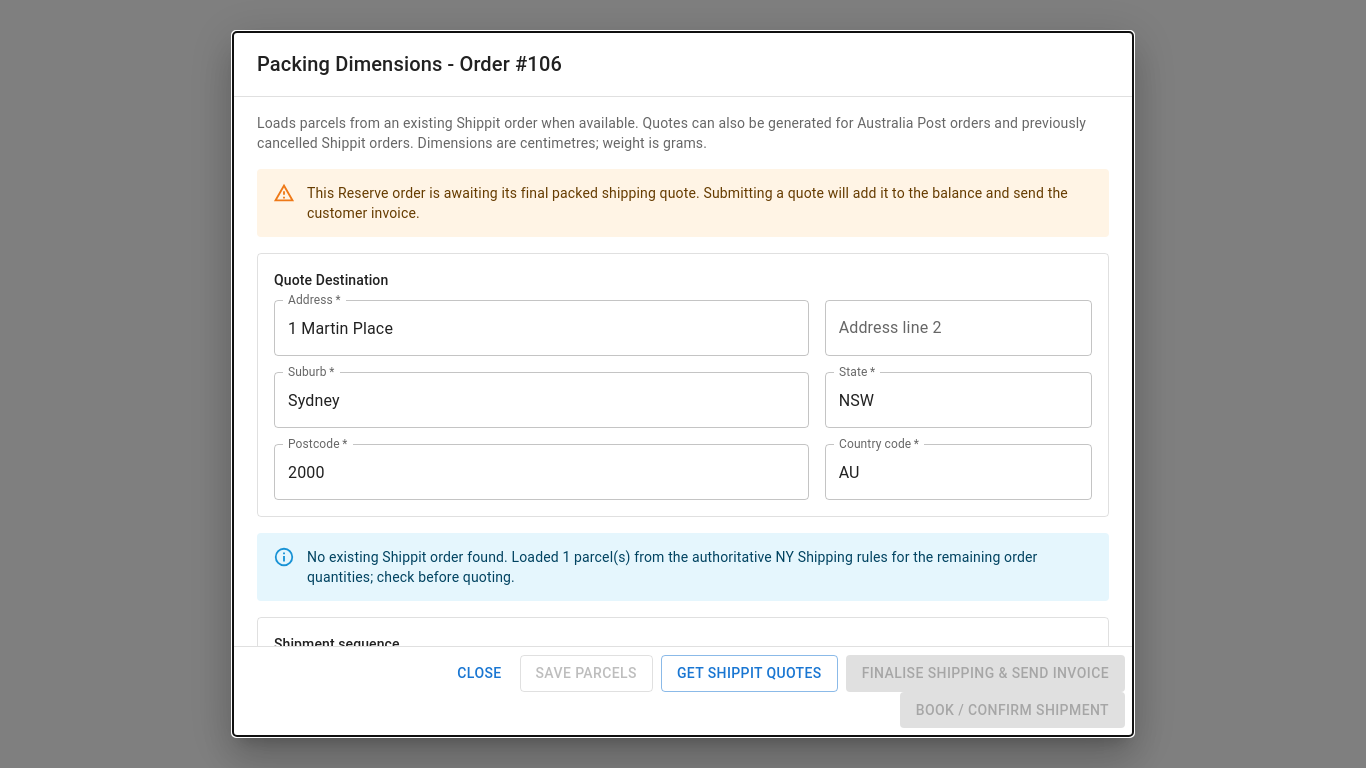
Test: PackingDimensionsDialog › finalises a Reserve balance from a selected packed shipping quote
Expected: the text "awaiting its final packed shipping quote" is shown, [307,185,1068,221]
Click the button "Get Shippit Quotes".
click(749, 673)  # box [661,655,838,692]
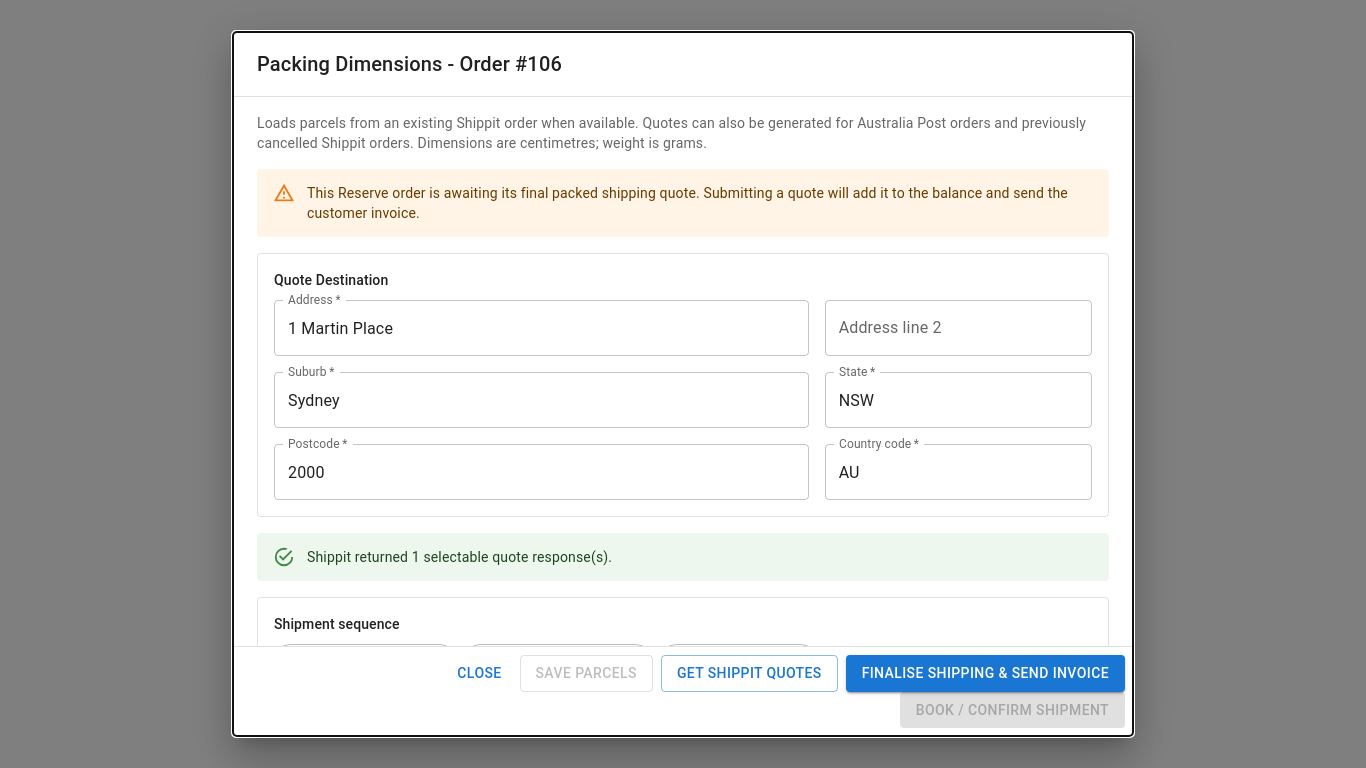
Expected: the button "Finalise Shipping & Send Invoice" is enabled
Click the button "Finalise Shipping & Send Invoice".
click(985, 673)  # box [846,655,1125,692]
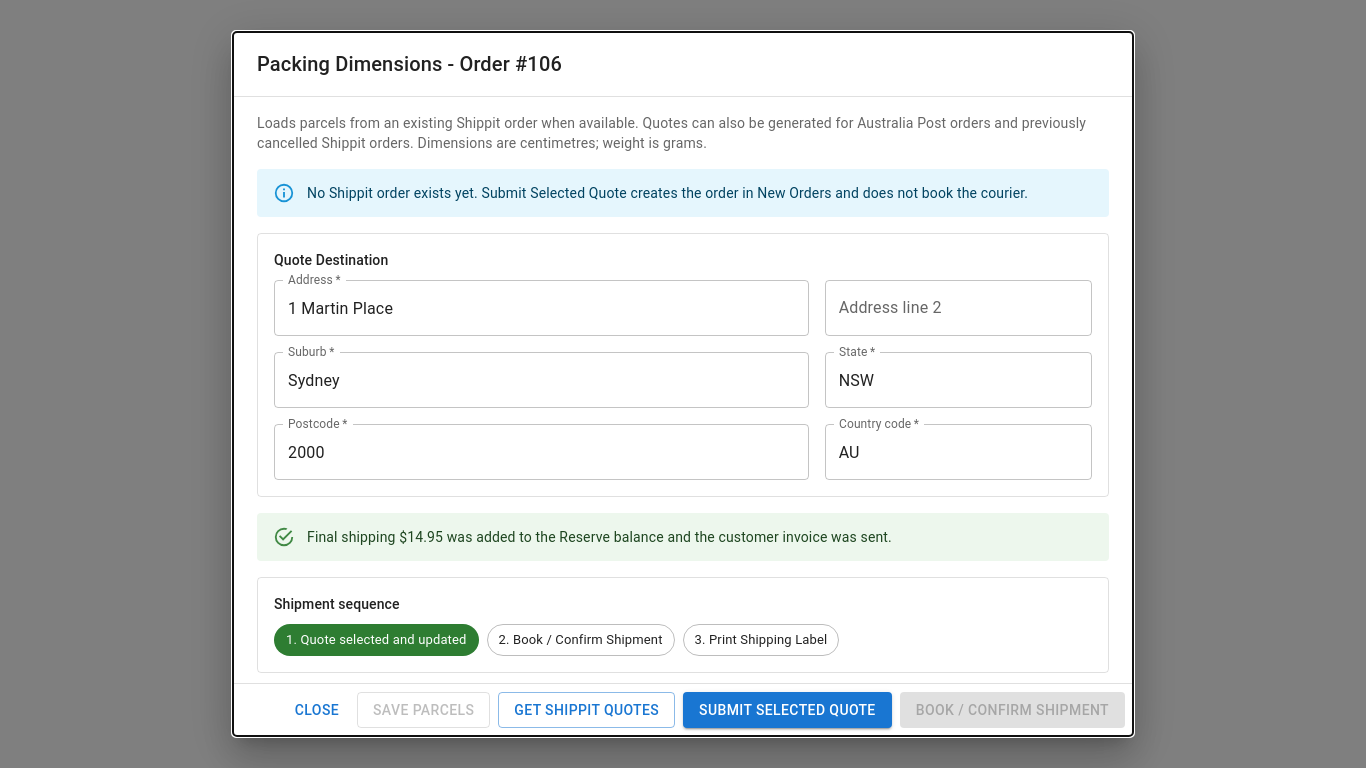
Expected: the text "Final shipping $14.95 was added" is shown, [307,529,892,545]
